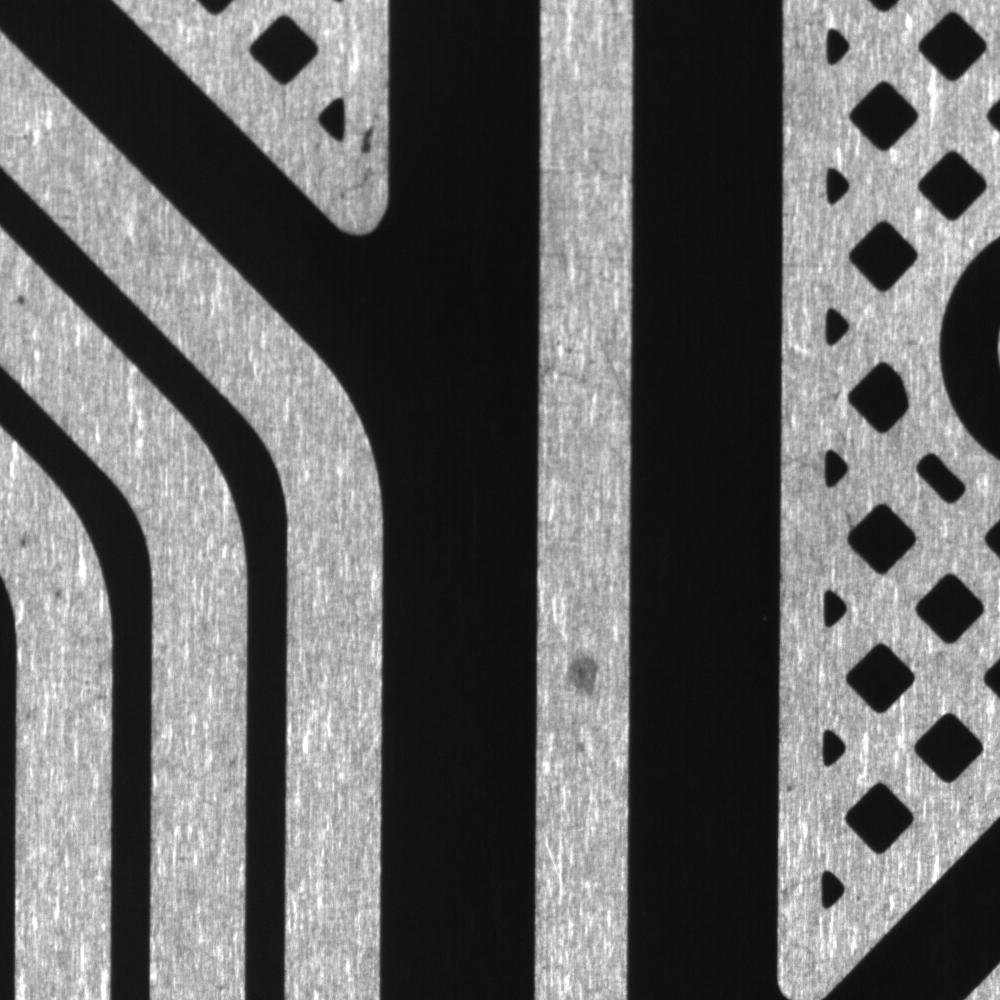Discolor: (553, 651, 622, 706)
Pinhole: (5, 284, 36, 311), (12, 530, 35, 554), (47, 581, 65, 606)
Scar: (540, 332, 634, 420), (539, 231, 635, 303), (541, 152, 638, 201)
